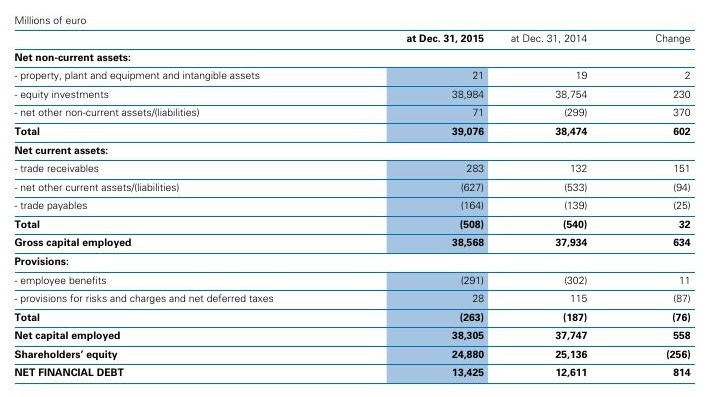table: (0, 0, 715, 397)
